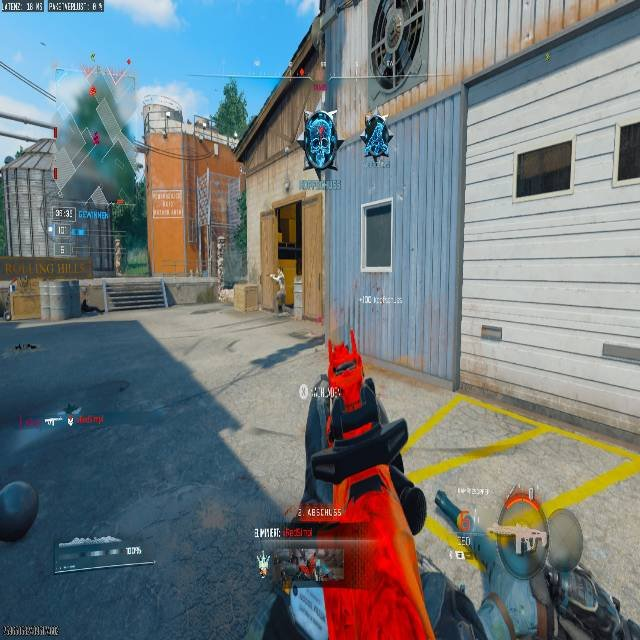head: (489, 496, 549, 577)
player: (361, 109, 392, 163), (270, 266, 287, 315), (272, 288, 289, 315)
